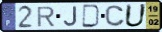2: (18, 4, 34, 29)
C: (104, 5, 126, 27)
D: (82, 4, 102, 29)
J: (63, 5, 79, 27)
R: (36, 6, 56, 28)
U: (123, 3, 148, 29)
